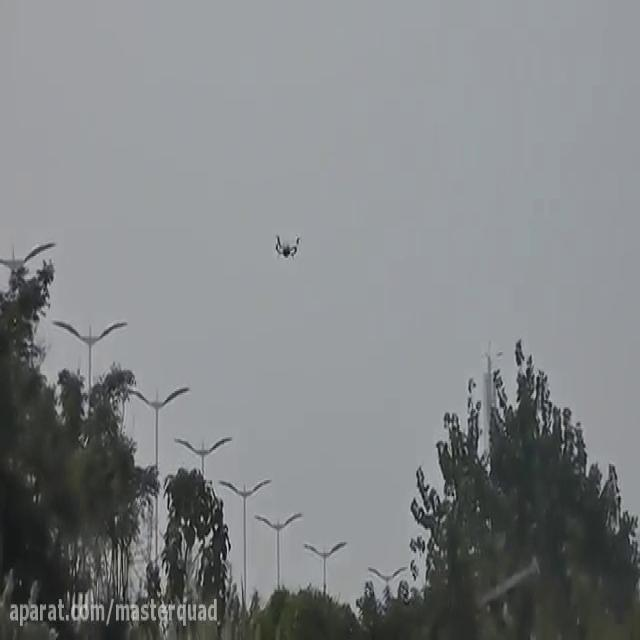drone: (270, 228, 304, 262)
